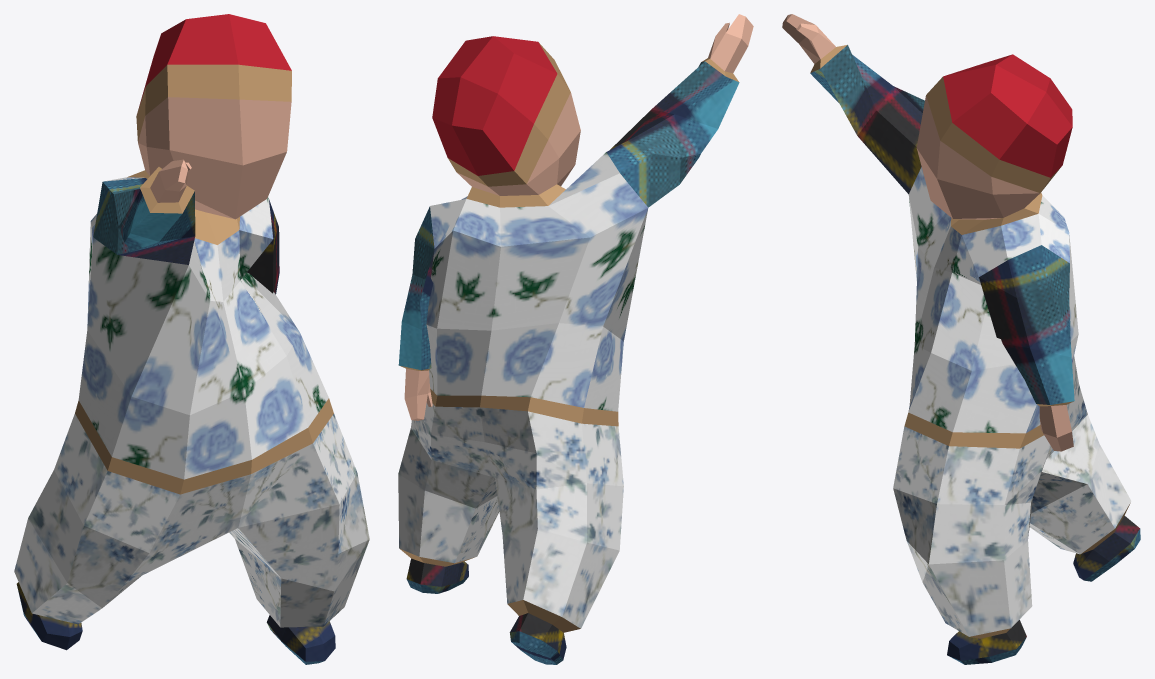
Rendered from SpringBaby.003.glb.
3 renders of one model, left to right at view 1: azimuth 30°, elevation 25°; view 2: azimuth 150°, elevation 25°; view 3: azimuth 270°, elevation 25°, orthographic. The views are drawn at different scales.
Parts seen in each view (by area): view 1: SpringBaby.003; view 2: SpringBaby.003; view 3: SpringBaby.003.
Boxes of the visible parts, left/top/right/bottom form: SpringBaby.003: left=14, top=14, right=369, bottom=664; SpringBaby.003: left=398, top=14, right=753, bottom=664; SpringBaby.003: left=782, top=14, right=1140, bottom=664.
Bounding box in the file's own units: 0.2631 × 0.5793 × 0.332.
1 material, 1 textured.
